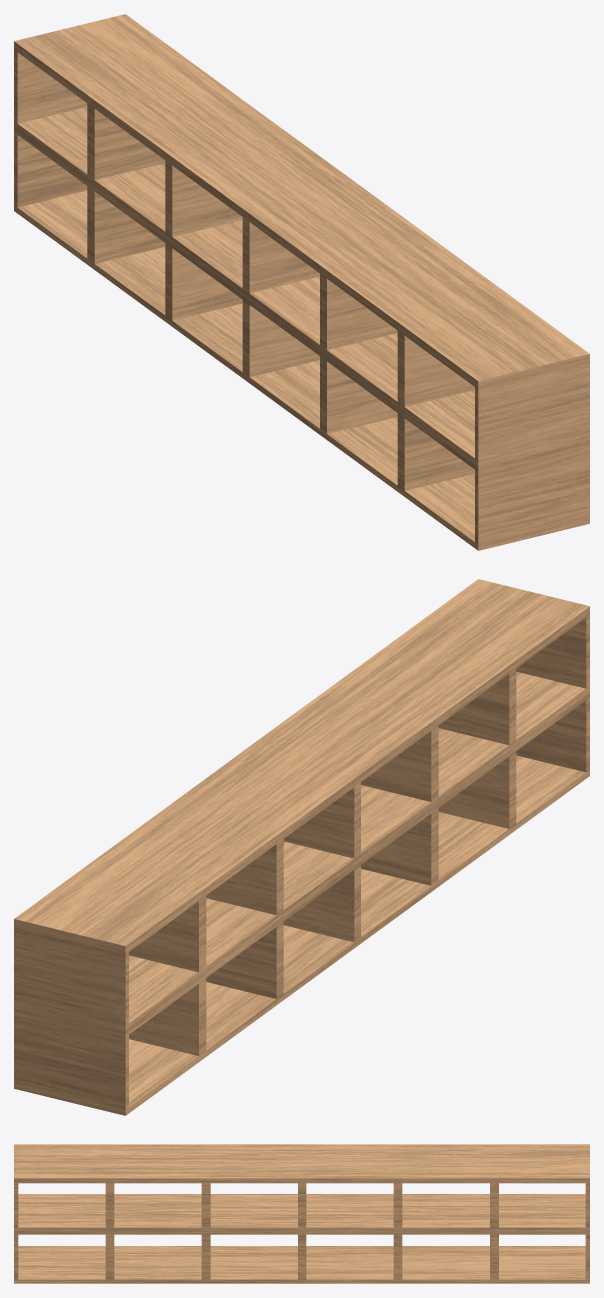
File: BagCupboard.fbx
3 renders of one model, top to bottom at view 1: azimuth 30°, elevation 25°; view 2: azimuth 150°, elevation 25°; view 3: azimuth 270°, elevation 25°, orthographic. The views are drawn at different scales.
Visible parts, largest first — view 1: Bagcupboard:BagCupboard1; view 2: Bagcupboard:BagCupboard1; view 3: Bagcupboard:BagCupboard1.
Boxes of the visible parts, x1,y1,x2,y2 form: Bagcupboard:BagCupboard1: (14,14,589,550); Bagcupboard:BagCupboard1: (14,579,589,1115); Bagcupboard:BagCupboard1: (14,1144,589,1283).
Size of the model in its own units: 71.05 by 103 by 512.
